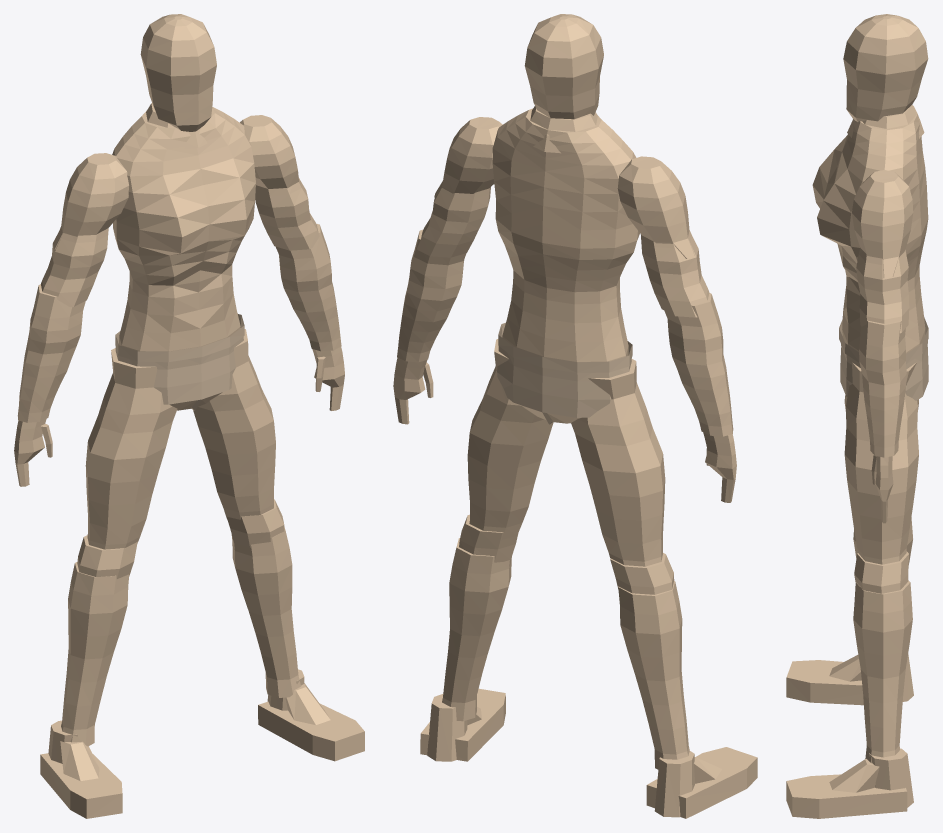
Rendered from male-hero.glb.
3 views of the same model, side by side, from view 1: azimuth 30°, elevation 25°; view 2: azimuth 150°, elevation 25°; view 3: azimuth 270°, elevation 25° (orthographic). The views are drawn at different scales.
Visible parts, largest first — view 1: torso, leg_upper_l, leg_upper_r, leg_lower_l, head, leg_lower_r, arm_lower_l, arm_lower_r, deltoid_l, briefs, foot_r, arm_upper_l (+10 smaller); view 2: torso, leg_upper_l, leg_upper_r, leg_lower_l, leg_lower_r, head, arm_lower_l, arm_lower_r, deltoid_l, briefs, arm_upper_l, arm_upper_r (+11 smaller); view 3: torso, leg_upper_r, leg_lower_r, head, arm_lower_r, deltoid_r, foot_r, arm_upper_r, foot_l, knee_r, briefs, heel_r (+6 smaller).
Boxes of the visible parts, x1,y1,x2,y2 form: torso: [112, 107, 255, 410]; leg_upper_l: [85, 348, 177, 549]; leg_upper_r: [193, 329, 275, 519]; leg_lower_l: [61, 561, 129, 746]; head: [140, 14, 216, 131]; leg_lower_r: [231, 526, 300, 697]; arm_lower_l: [17, 284, 85, 422]; arm_lower_r: [276, 223, 341, 351]; deltoid_l: [53, 153, 128, 249]; briefs: [115, 315, 243, 410]; foot_r: [258, 701, 364, 761]; arm_upper_l: [41, 228, 108, 306]; torso: [492, 108, 639, 423]; leg_upper_l: [571, 359, 665, 566]; leg_upper_r: [467, 339, 553, 539]; leg_lower_l: [618, 581, 689, 769]; leg_lower_r: [442, 538, 511, 721]; head: [524, 14, 603, 119]; arm_lower_l: [664, 293, 733, 436]; arm_lower_r: [397, 229, 466, 362]; deltoid_l: [617, 156, 694, 258]; briefs: [497, 324, 631, 424]; arm_upper_l: [640, 230, 709, 317]; arm_upper_r: [416, 187, 490, 257]; torso: [812, 105, 928, 353]; leg_upper_r: [844, 362, 918, 564]; leg_lower_r: [853, 580, 912, 763]; head: [843, 14, 928, 121]; arm_lower_r: [859, 320, 906, 457]; deltoid_r: [852, 170, 913, 278]; foot_r: [786, 774, 907, 818]; arm_upper_r: [856, 247, 909, 333]; foot_l: [786, 660, 863, 705]; knee_r: [854, 551, 908, 593]; briefs: [839, 321, 928, 400]; heel_r: [869, 748, 913, 807].
Bounding box in the file's own units: 0.8638 × 1.85 × 0.3265.
